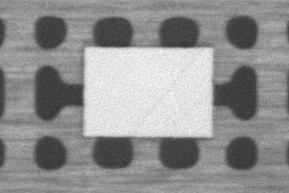DIE_CRACK: (135, 52, 203, 132)
